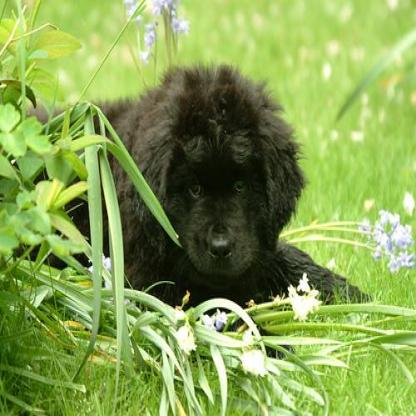Newfoundland: (6, 54, 373, 364)
